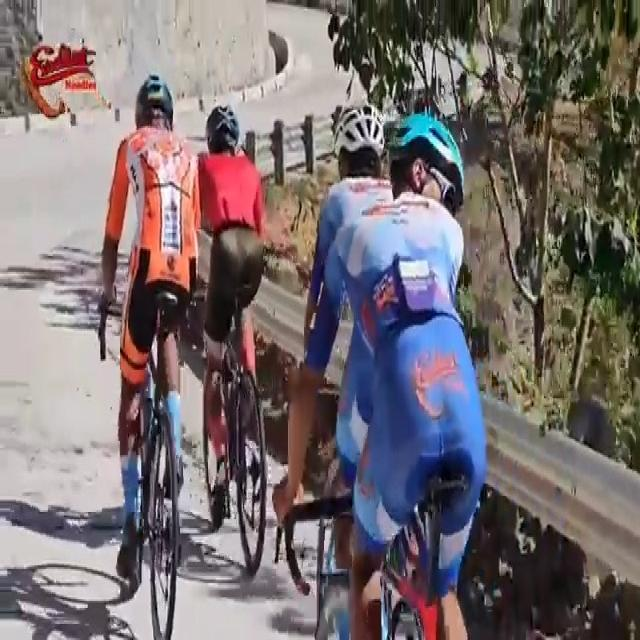bike: (356, 114, 488, 640), (96, 106, 202, 640), (306, 110, 402, 596), (198, 108, 272, 589)
